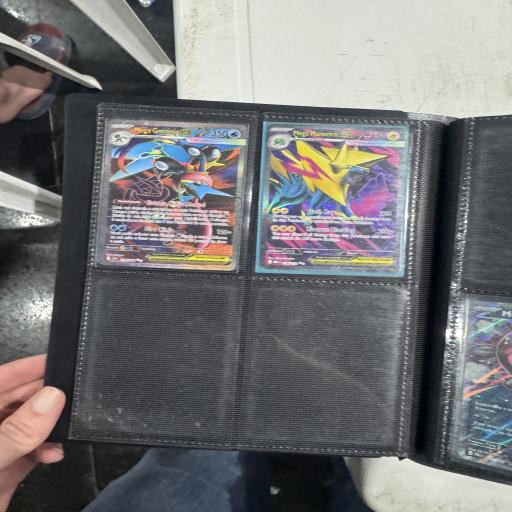card: (98, 116, 248, 274), (259, 123, 405, 274)
